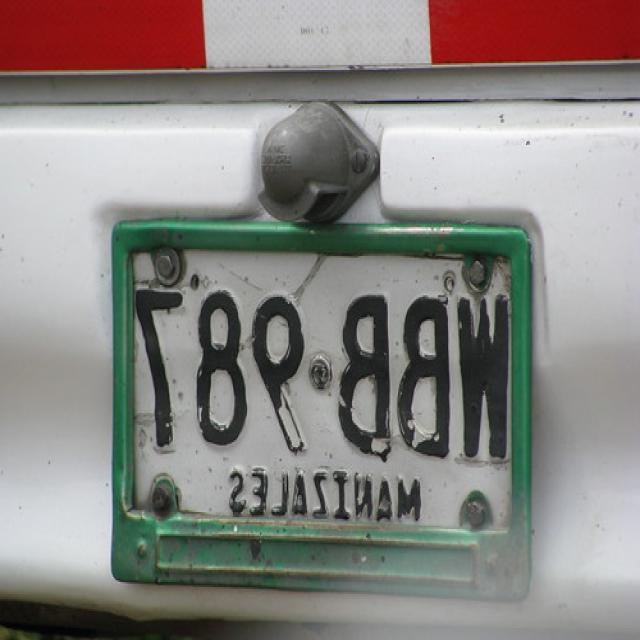placas: (126, 271, 519, 478)
